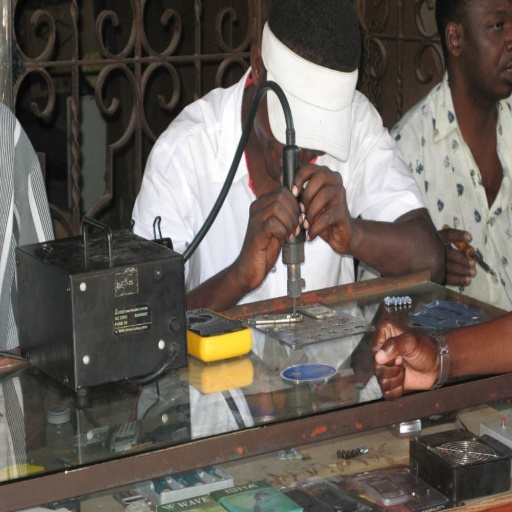hand: (234, 182, 304, 290), (279, 163, 354, 256), (369, 315, 439, 404), (451, 222, 486, 292)
